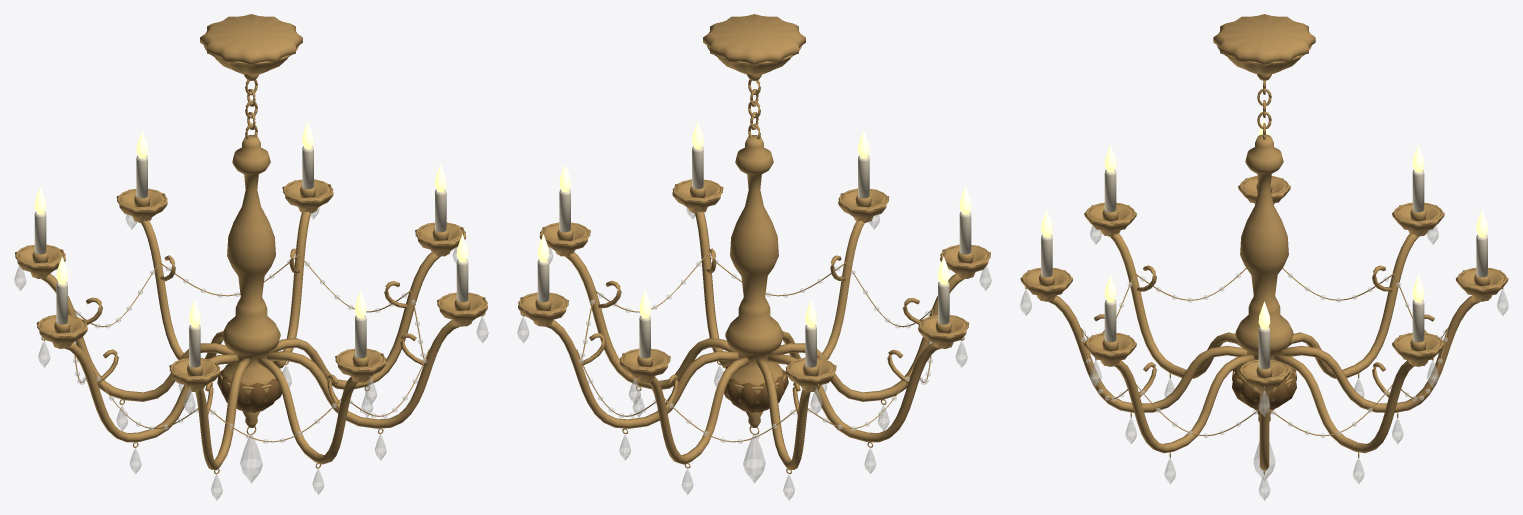
File: french-chandelier.glb
3 views of the same model, side by side, from view 1: azimuth 30°, elevation 25°; view 2: azimuth 150°, elevation 25°; view 3: azimuth 270°, elevation 25° (orthographic).
Parts seen in each view (by area): view 1: Brushed antique brass, Cut clear crystal, Warm ivory candle sleeves, 2700K candle bulbs, Recessed patinated brass; view 2: Brushed antique brass, Cut clear crystal, Warm ivory candle sleeves, 2700K candle bulbs, Recessed patinated brass; view 3: Brushed antique brass, Cut clear crystal, Warm ivory candle sleeves, 2700K candle bulbs, Recessed patinated brass.
Part boxes in pixels (<box>): Brushed antique brass: <box>15,14,487,474</box>; Cut clear crystal: <box>14,207,488,500</box>; Warm ivory candle sleeves: <box>34,146,468,367</box>; 2700K candle bulbs: <box>34,121,468,327</box>; Recessed patinated brass: <box>217,366,283,412</box>; Brushed antique brass: <box>518,14,990,473</box>; Cut clear crystal: <box>517,207,991,500</box>; Warm ivory candle sleeves: <box>537,146,971,367</box>; 2700K candle bulbs: <box>537,121,971,327</box>; Recessed patinated brass: <box>722,366,788,412</box>; Brushed antique brass: <box>1020,14,1508,474</box>; Cut clear crystal: <box>1020,225,1508,500</box>; Warm ivory candle sleeves: <box>1041,170,1487,369</box>; 2700K candle bulbs: <box>1041,118,1487,329</box>; Recessed patinated brass: <box>1232,368,1296,410</box>.
Size of the model in its own units: 0.9215 by 0.9334 by 0.9204.
